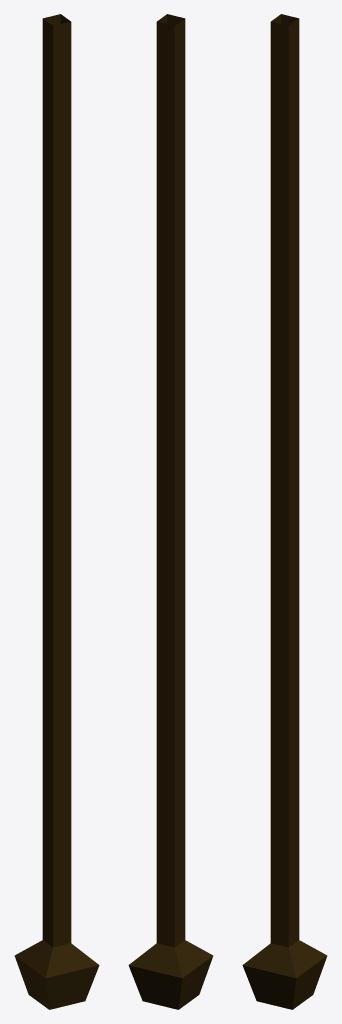
File: model_549_obj_wear.obj
3 renders of one model, left to right at view 1: azimuth 30°, elevation 25°; view 2: azimuth 150°, elevation 25°; view 3: azimuth 330°, elevation 25°, orthographic.
Visible parts, largest first — view 1: 549; view 2: 549; view 3: 549.
Part boxes in pixels (<box>): 549: <box>14,14,99,1009</box>; 549: <box>128,14,213,1009</box>; 549: <box>242,14,327,1009</box>.
Size of the model in its own units: 24 by 416 by 24.
